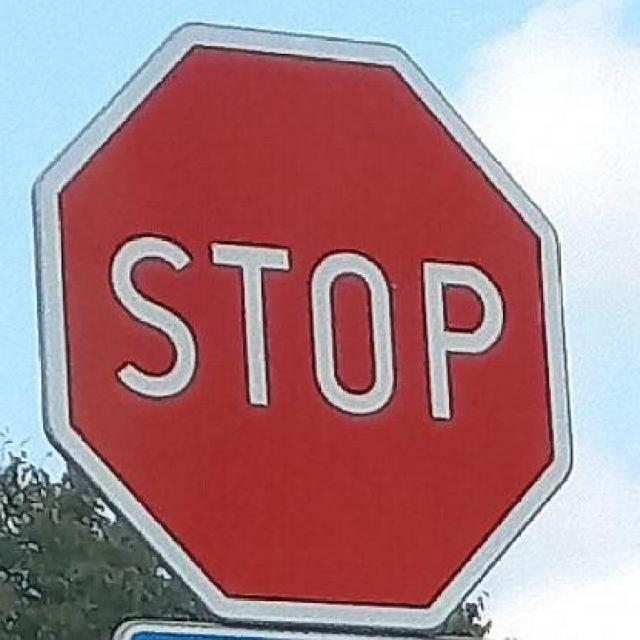Stop: (32, 21, 574, 632)
